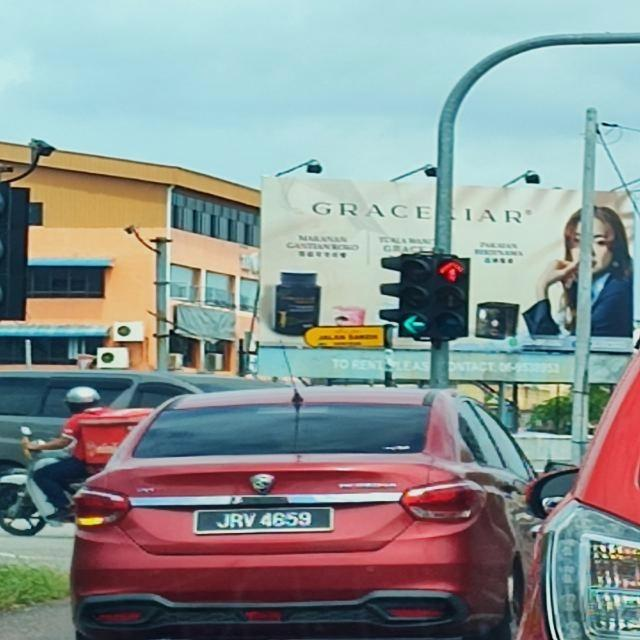Green: (398, 255, 436, 337)
Red: (434, 257, 472, 338)
